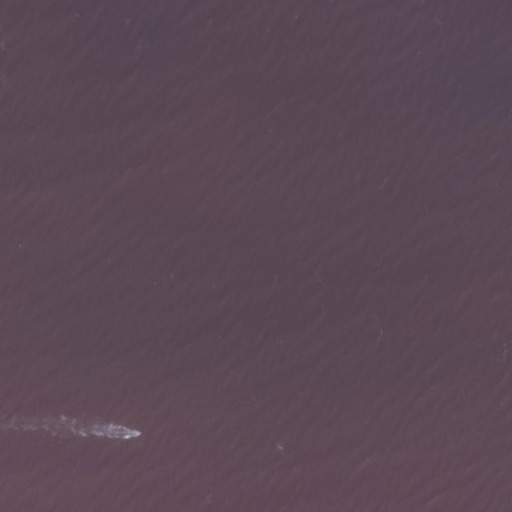ship: (125, 428, 143, 441)
